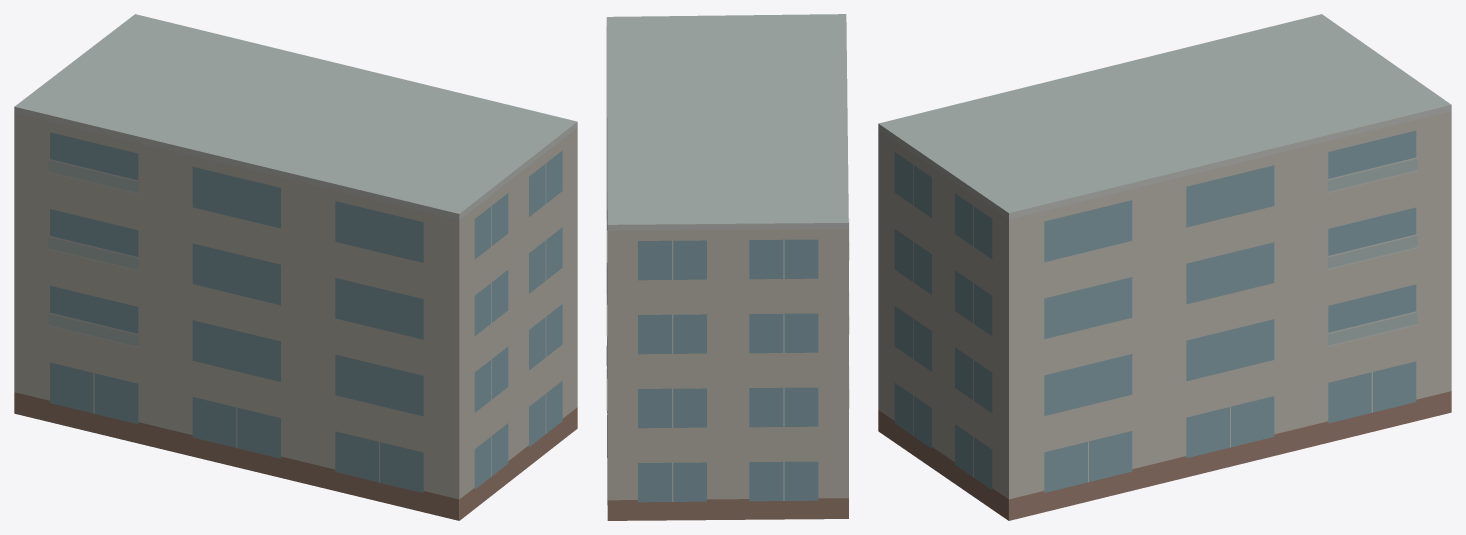
Rendered from survey-upis-32759791.glb.
3 views of the same model, side by side, from view 1: azimuth 30°, elevation 25°; view 2: azimuth 150°, elevation 25°; view 3: azimuth 270°, elevation 25° (orthographic). The views are drawn at different scales.
Visible parts, largest first — view 1: survey-upis-32759791.tmp; view 2: survey-upis-32759791.tmp; view 3: survey-upis-32759791.tmp.
Part boxes in pixels (x1,y1,x2,y2): survey-upis-32759791.tmp: [14, 14, 577, 520]; survey-upis-32759791.tmp: [606, 14, 849, 520]; survey-upis-32759791.tmp: [878, 14, 1451, 520].
Bounding box in the file's own units: 16.94 × 12.2 × 20.61.
